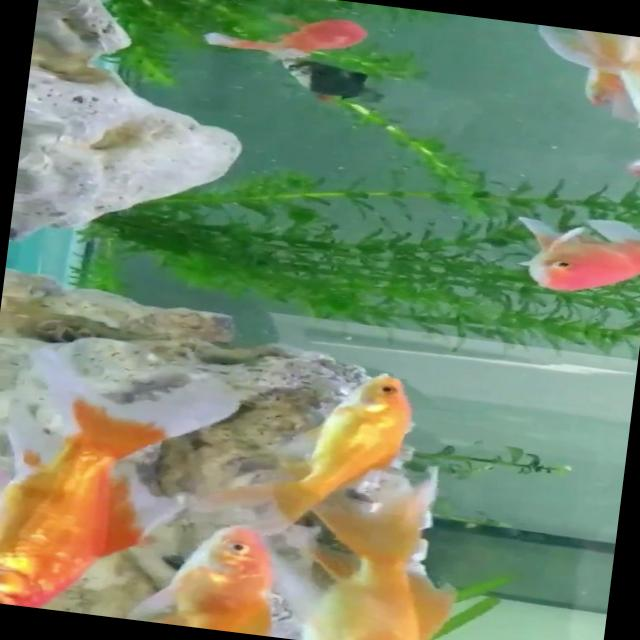GoldFish: (0, 362, 181, 621), (200, 347, 429, 545), (299, 505, 447, 640), (158, 506, 278, 636), (508, 207, 640, 305)
